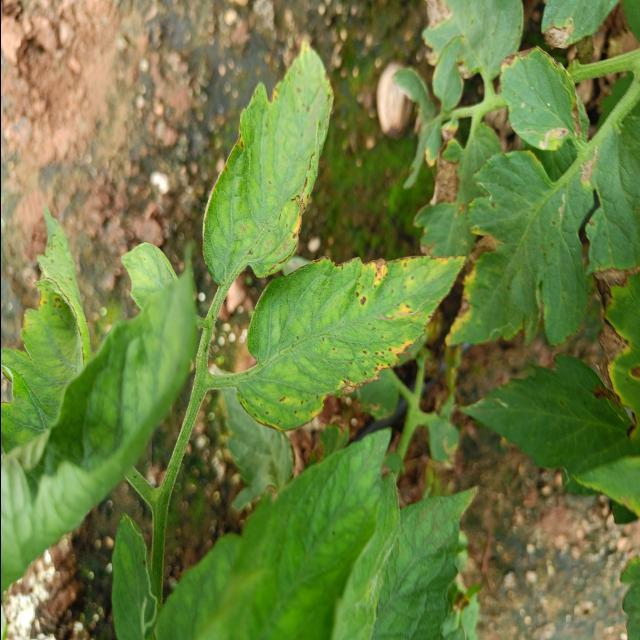Tomato mosaic virus leaf: (233, 246, 469, 436)
